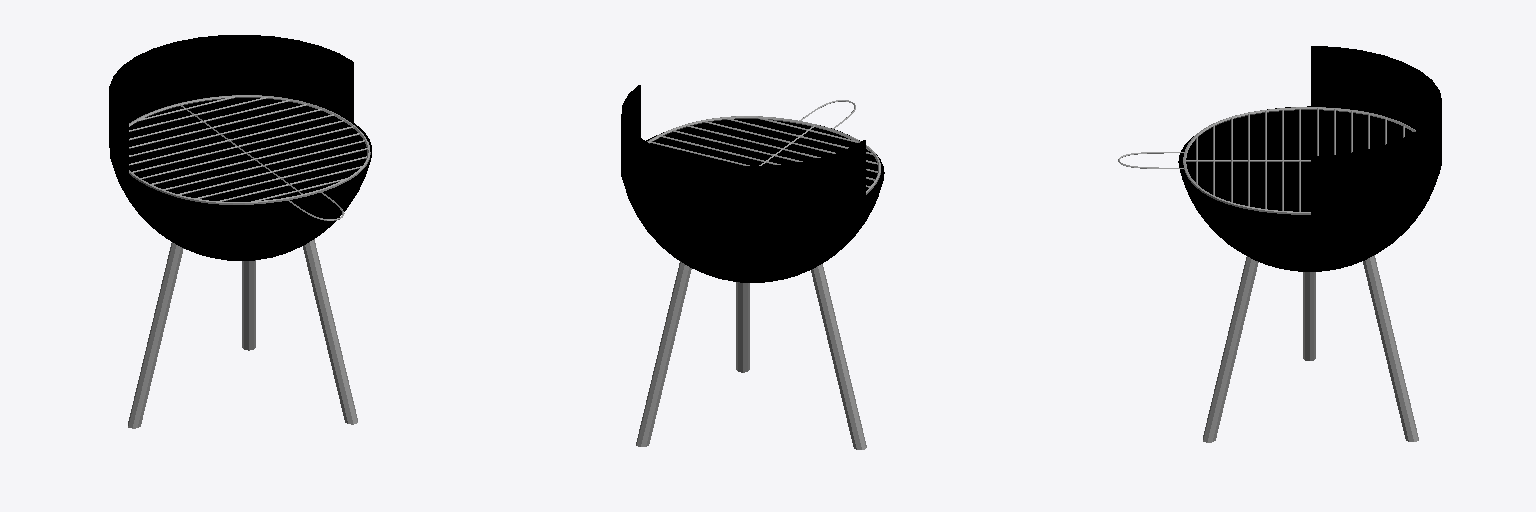
The model's file is barbecue.obj.
3 renders of one model, left to right at view 1: azimuth 30°, elevation 25°; view 2: azimuth 150°, elevation 25°; view 3: azimuth 270°, elevation 25°, orthographic.
Visible parts, largest first — view 1: Cuve, Contour, Grille, Grille_1; view 2: Contour, Cuve, Grille, Grille_1; view 3: Cuve, Contour, Grille, Grille_1.
Boxes of the visible parts, <box> form: Cuve: <box>111,98,371,260</box>; Contour: <box>109,35,353,177</box>; Grille: <box>128,95,370,428</box>; Grille_1: <box>129,96,366,350</box>; Contour: <box>621,85,865,228</box>; Cuve: <box>624,119,884,282</box>; Grille: <box>647,100,880,449</box>; Grille_1: <box>636,121,877,446</box>; Cuve: <box>1178,106,1438,271</box>; Contour: <box>1311,46,1441,217</box>; Grille: <box>1118,107,1415,442</box>; Grille_1: <box>1231,108,1418,441</box>.
Bounding box in the file's own units: 0.7715 × 1 × 0.9518.